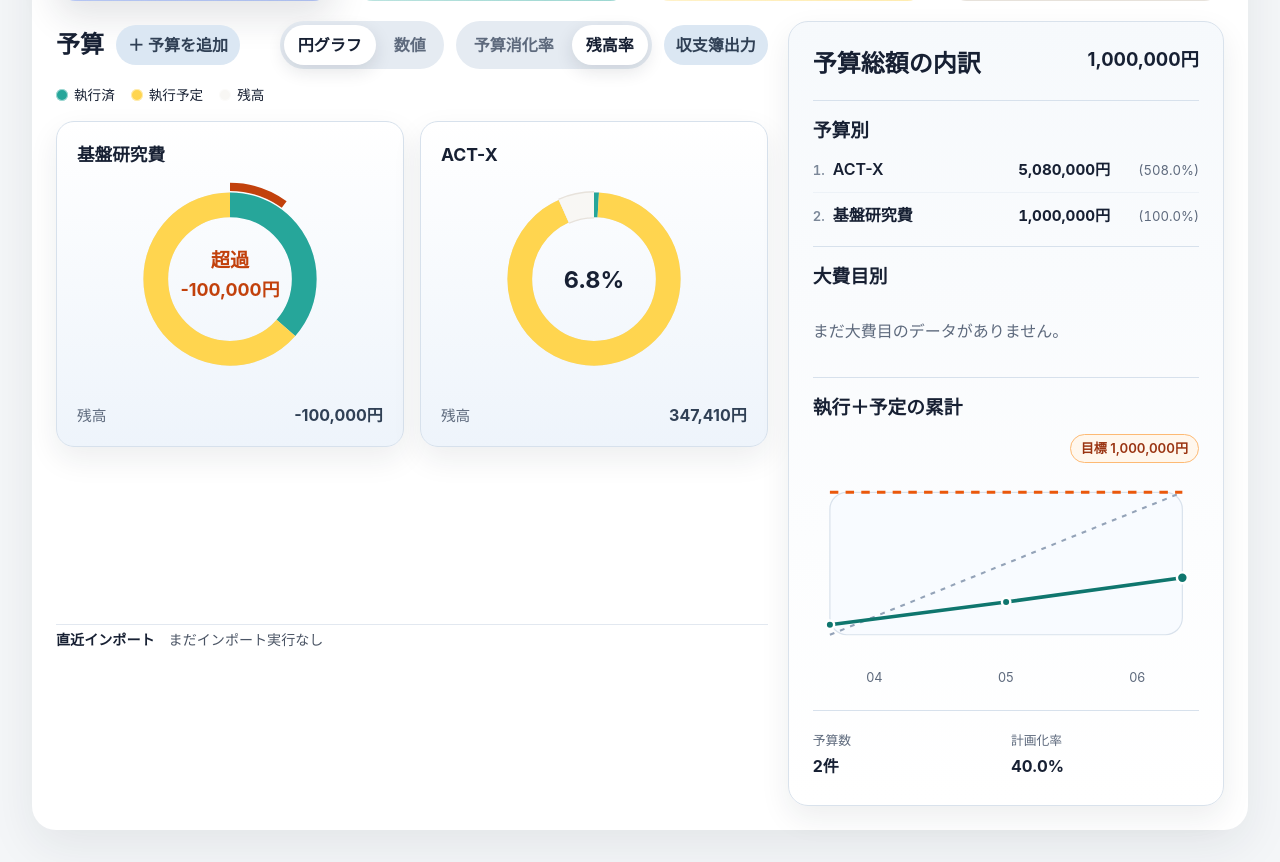
Scenario: Overview display › opens a lazy monthly summary from a month label while preserving overview query parameters
(page scrolled)
Click the button named "2026年6月の月ラベルから予算総額サマリを開く": (1137,678) x1=1076 y1=664 x2=1199 y2=692
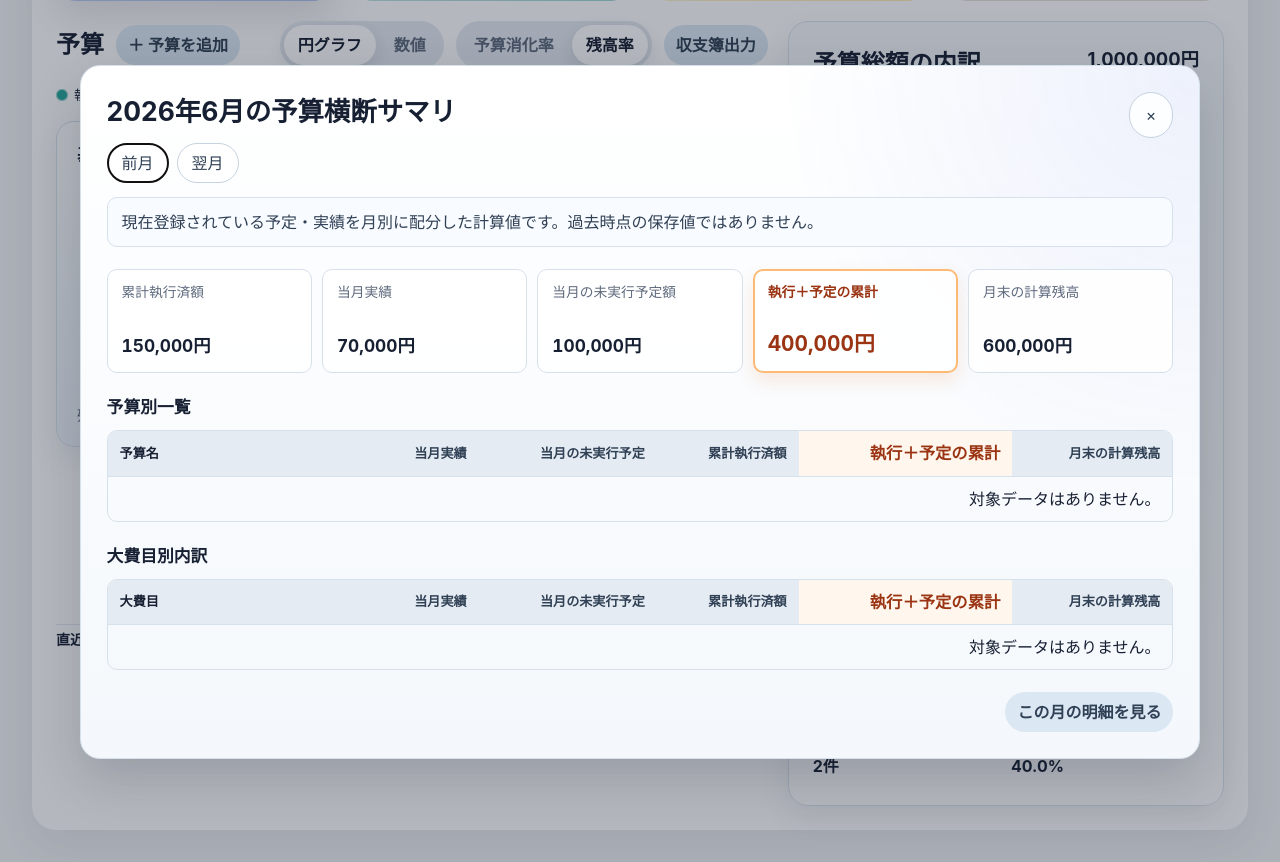
Check: the dialog "2026年6月の予算横断サマリ" is shown
